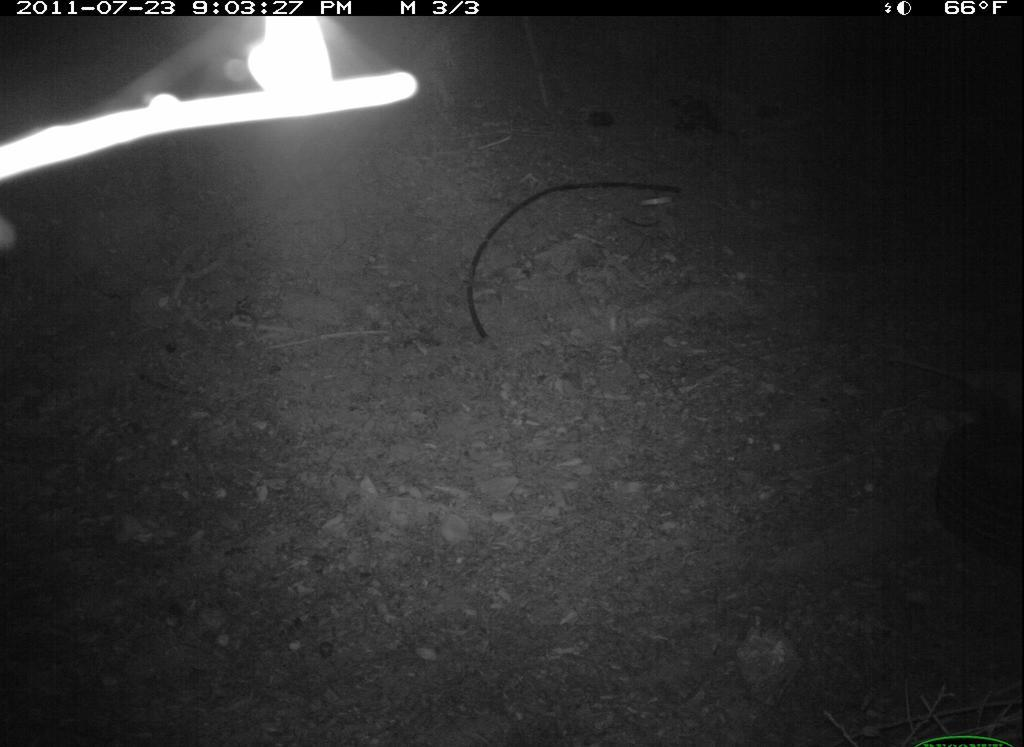opossum: (877, 296, 1023, 434)
